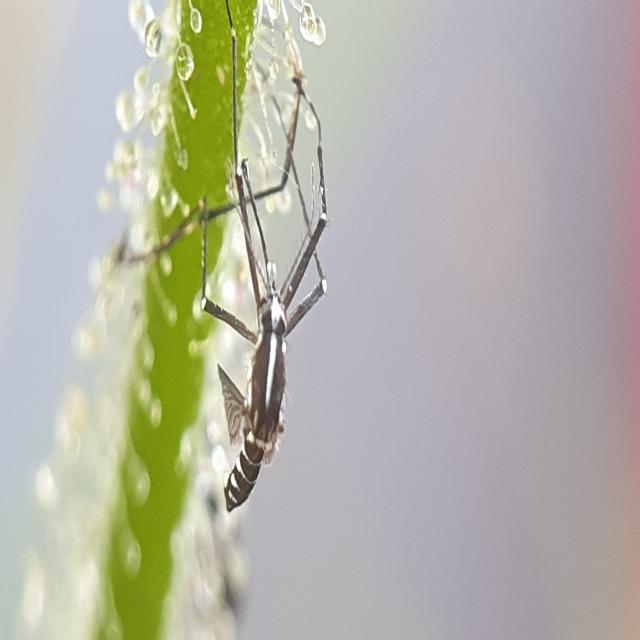albopictus: (98, 27, 340, 533)
